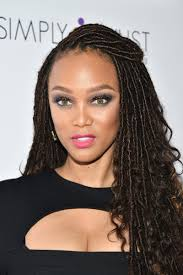black_female: (35, 29, 154, 169)
